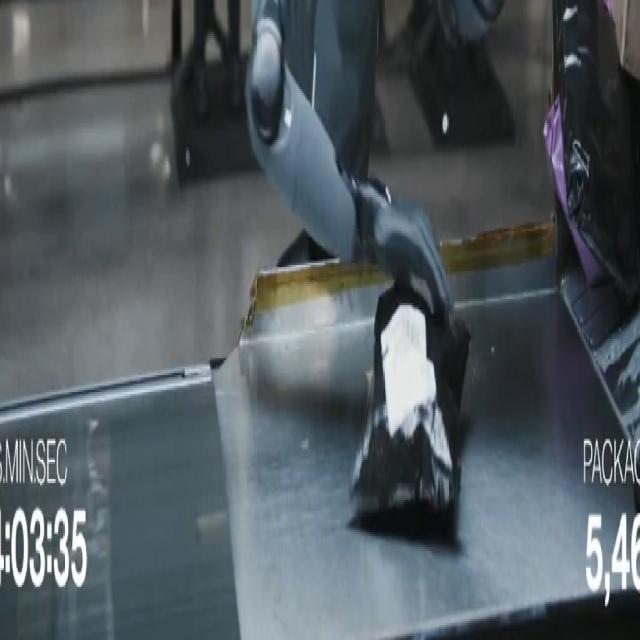package: (351, 284, 469, 514), (555, 0, 639, 300), (544, 98, 603, 286), (608, 0, 639, 80)
